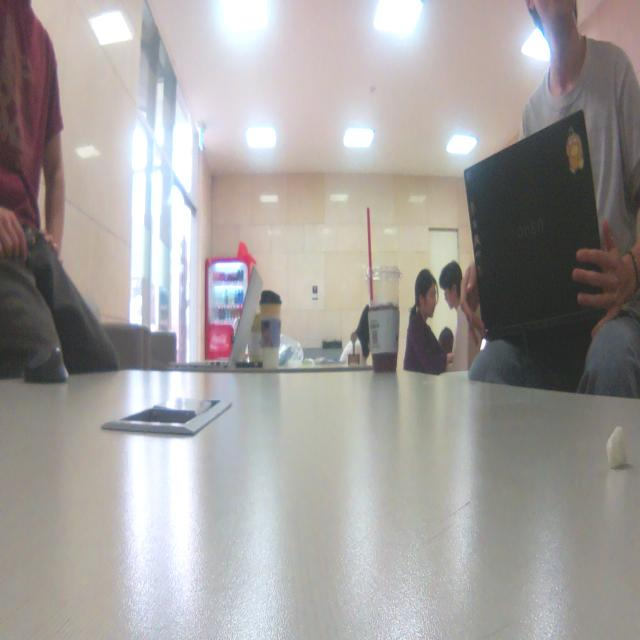target: (348, 332, 362, 367)
